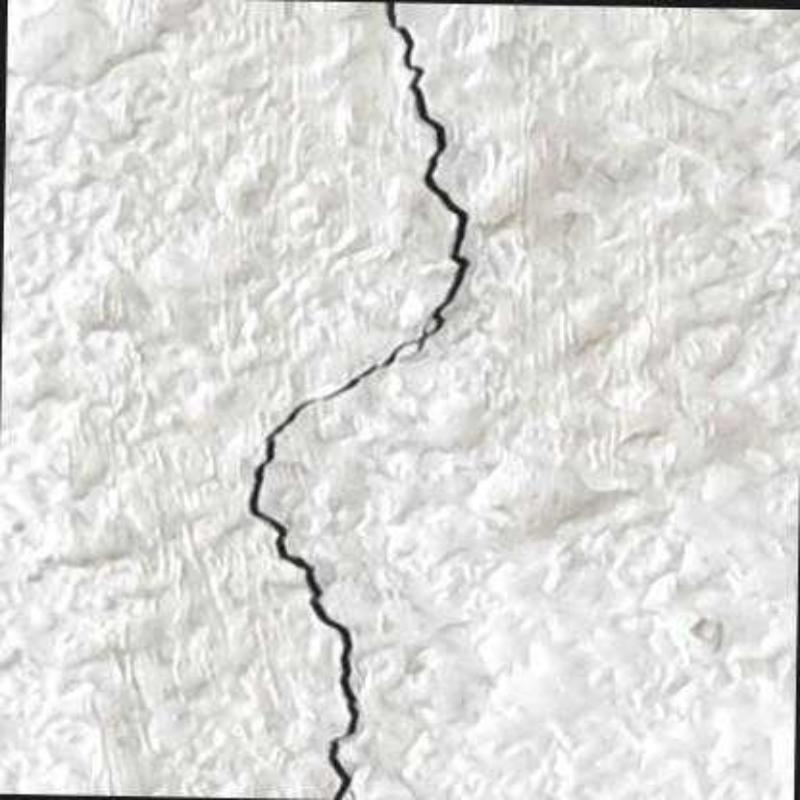pothole: (246, 2, 470, 800)
